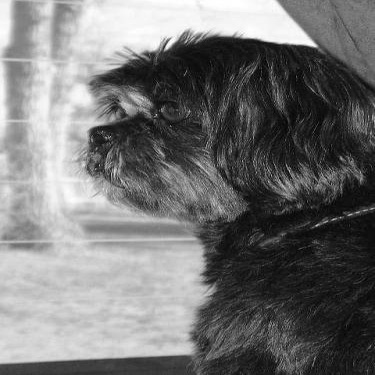dog: (76, 24, 371, 373)
